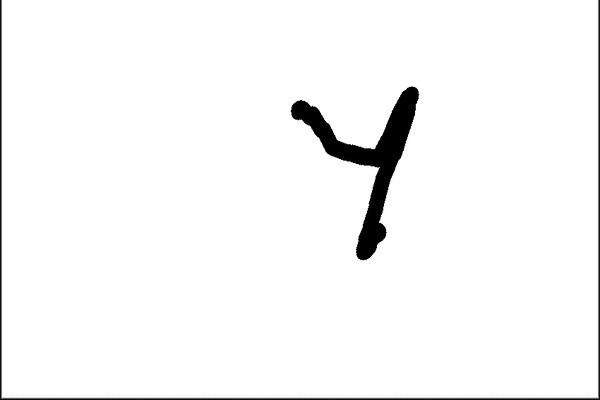Y: (276, 76, 428, 269)
